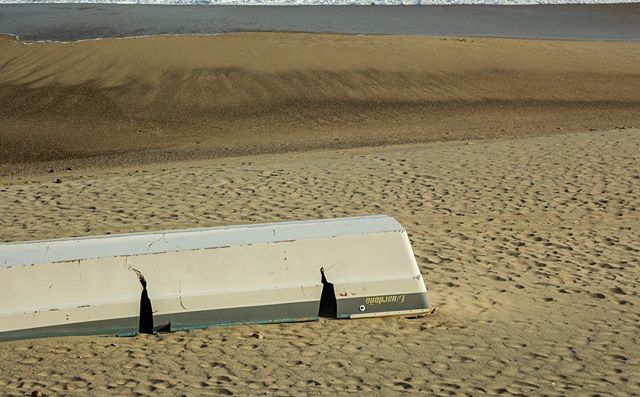beach: (1, 44, 634, 231)
sea: (7, 1, 640, 39)
